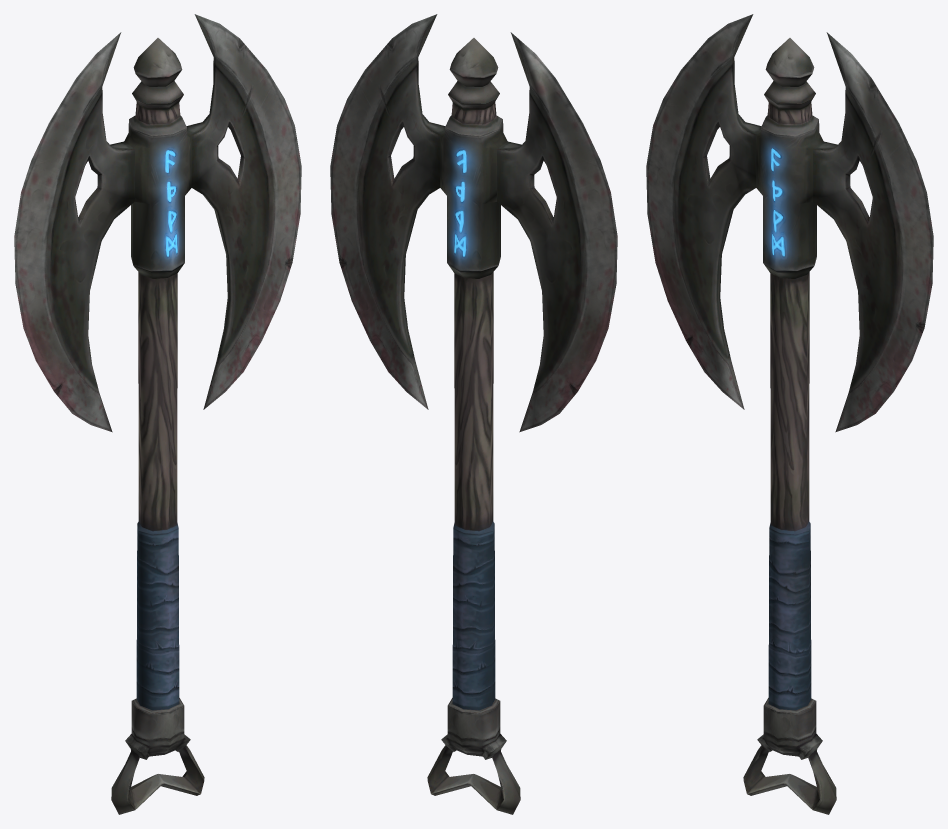
The model's file is DoubleAxe.fbx.
3 views of the same model, side by side, from view 1: azimuth 30°, elevation 25°; view 2: azimuth 150°, elevation 25°; view 3: azimuth 330°, elevation 25° (orthographic).
Visible parts, largest first — view 1: DoubleAxe; view 2: DoubleAxe; view 3: DoubleAxe.
Boxes of the visible parts, bbox=[...] form: DoubleAxe: bbox=[14, 14, 301, 814]; DoubleAxe: bbox=[330, 14, 617, 814]; DoubleAxe: bbox=[646, 14, 933, 814].
Size of the model in its own units: 49.25 by 128 by 8.81.
1 material, 1 textured.
